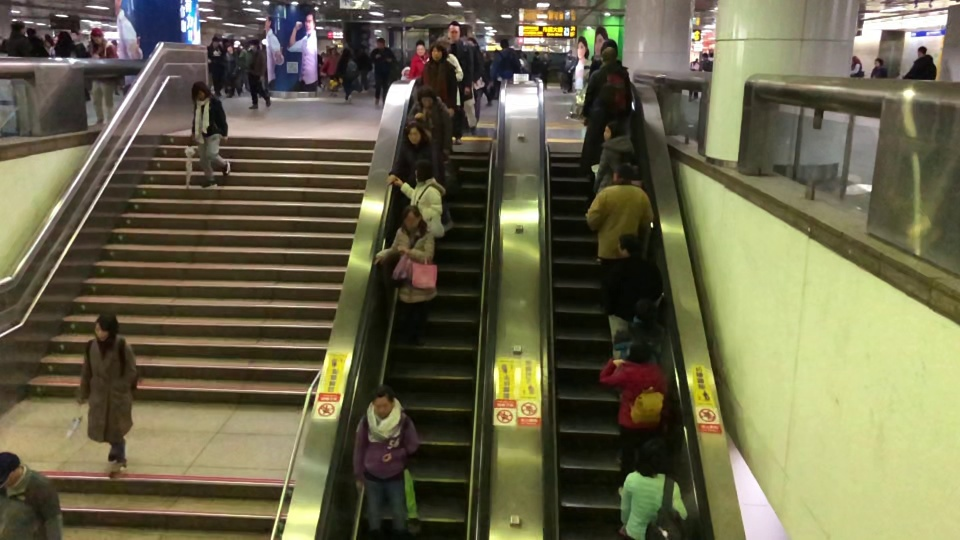person_head: (637, 437, 670, 472), (370, 384, 395, 417), (92, 311, 119, 341), (0, 451, 21, 486), (627, 340, 652, 364), (617, 232, 641, 256), (414, 158, 434, 184), (633, 299, 656, 321), (401, 205, 422, 228), (598, 83, 619, 104), (611, 164, 633, 184), (602, 121, 625, 140), (406, 120, 423, 145), (418, 85, 436, 107), (600, 46, 618, 66), (429, 41, 446, 60), (191, 80, 208, 98), (600, 40, 618, 57), (447, 21, 461, 40), (56, 31, 73, 45), (90, 28, 104, 45), (436, 36, 451, 50), (11, 19, 25, 33), (415, 41, 426, 54), (917, 45, 927, 57), (499, 38, 509, 49), (851, 55, 861, 65), (27, 25, 36, 36), (376, 37, 385, 48), (249, 40, 258, 49), (874, 57, 884, 65), (342, 48, 351, 56), (227, 43, 233, 54), (212, 37, 219, 46), (701, 52, 708, 59)
person_vbox: (599, 339, 668, 501), (351, 384, 419, 540), (76, 311, 139, 479), (586, 164, 654, 314), (372, 205, 438, 346), (601, 230, 666, 359), (619, 437, 688, 540), (578, 84, 624, 219), (0, 451, 64, 540), (189, 81, 231, 190), (393, 157, 445, 237), (581, 47, 632, 119), (593, 121, 642, 193), (614, 299, 669, 361), (446, 21, 473, 146), (407, 85, 448, 161), (386, 120, 431, 185), (89, 27, 119, 124), (422, 41, 458, 116), (54, 31, 89, 101), (434, 36, 464, 108), (247, 39, 272, 110), (370, 37, 395, 108), (489, 37, 520, 84), (335, 47, 358, 105), (902, 46, 937, 81), (588, 40, 622, 76), (3, 20, 31, 56), (208, 36, 224, 99), (404, 40, 429, 80), (225, 43, 237, 97), (26, 25, 46, 57), (870, 57, 887, 78), (850, 55, 864, 77), (699, 54, 713, 72)
